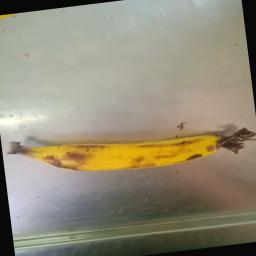Banana Unripe: (3, 88, 256, 206)
